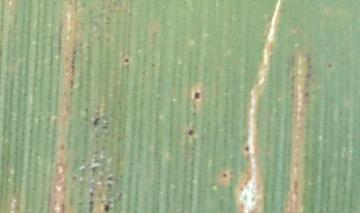tarspot: (191, 89, 203, 102), (91, 115, 102, 129), (187, 126, 197, 141), (102, 199, 112, 213), (220, 170, 231, 181), (123, 55, 134, 65), (243, 143, 251, 154), (326, 62, 334, 70)
